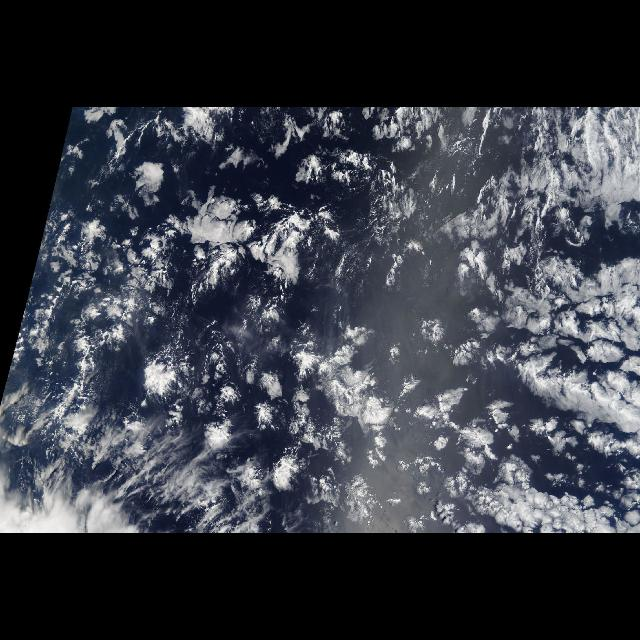Sugar: (282, 291, 500, 527)
